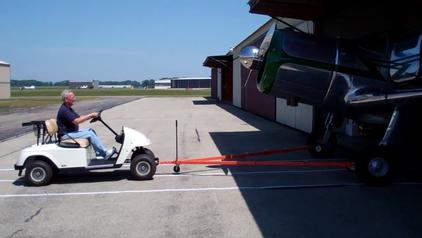sit: (52, 87, 109, 155)
